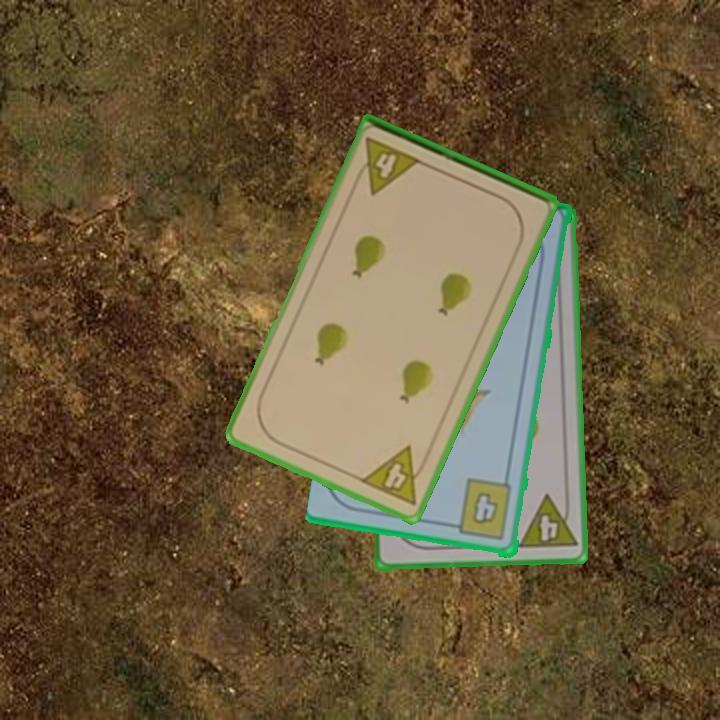4b: (447, 476, 516, 544)
4p: (357, 442, 433, 509), (350, 134, 424, 198), (515, 491, 580, 552)
